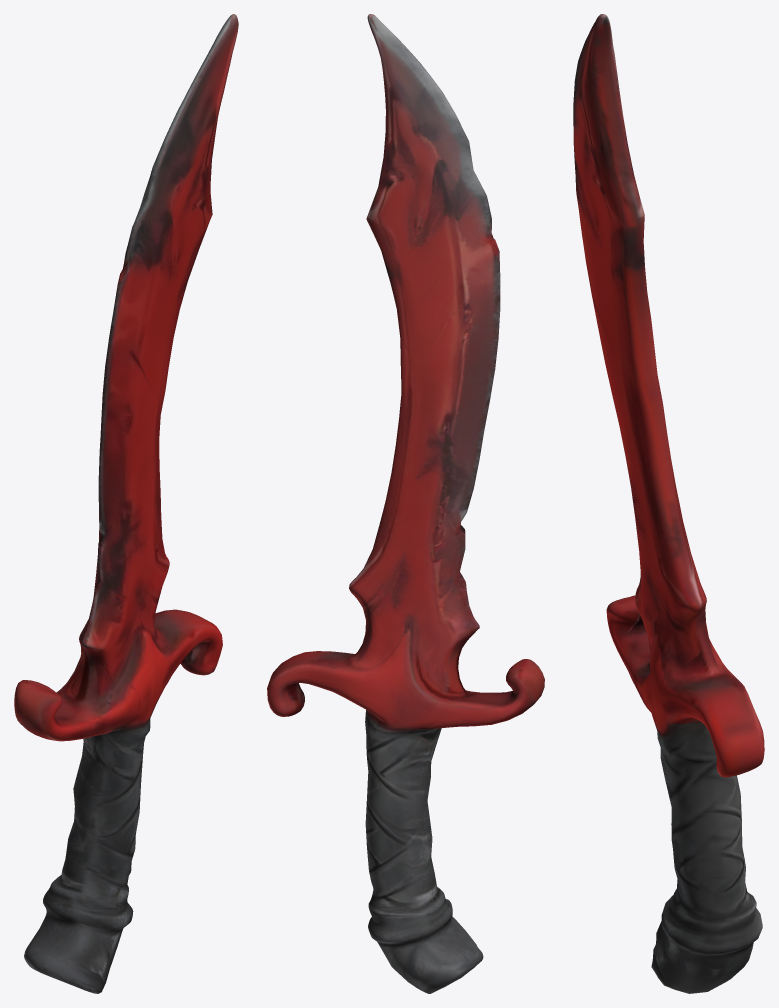
Rendered from pyrium_scim.glb.
The picture shows the model from 3 angles, left to right: view 1: azimuth 30°, elevation 25°; view 2: azimuth 150°, elevation 25°; view 3: azimuth 270°, elevation 25°; orthographic projection. The views are drawn at different scales.
Visible parts, largest first — view 1: pyrium_scim_mesh; view 2: pyrium_scim_mesh; view 3: pyrium_scim_mesh.
Boxes of the visible parts, bbox=[...] form: pyrium_scim_mesh: bbox=[14, 14, 238, 993]; pyrium_scim_mesh: bbox=[267, 14, 544, 993]; pyrium_scim_mesh: bbox=[573, 14, 764, 993].
Size of the model in its own units: 0.593 by 2.27 by 0.381.
1 material, 1 textured.
